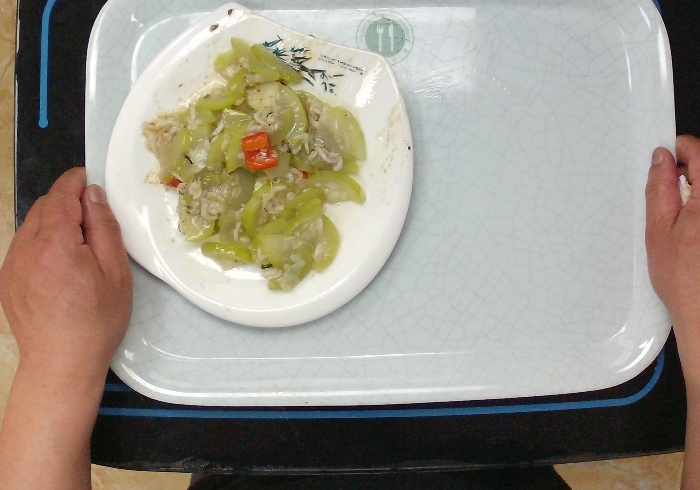JYsf-Mian_Pan: (103, 1, 414, 330)
